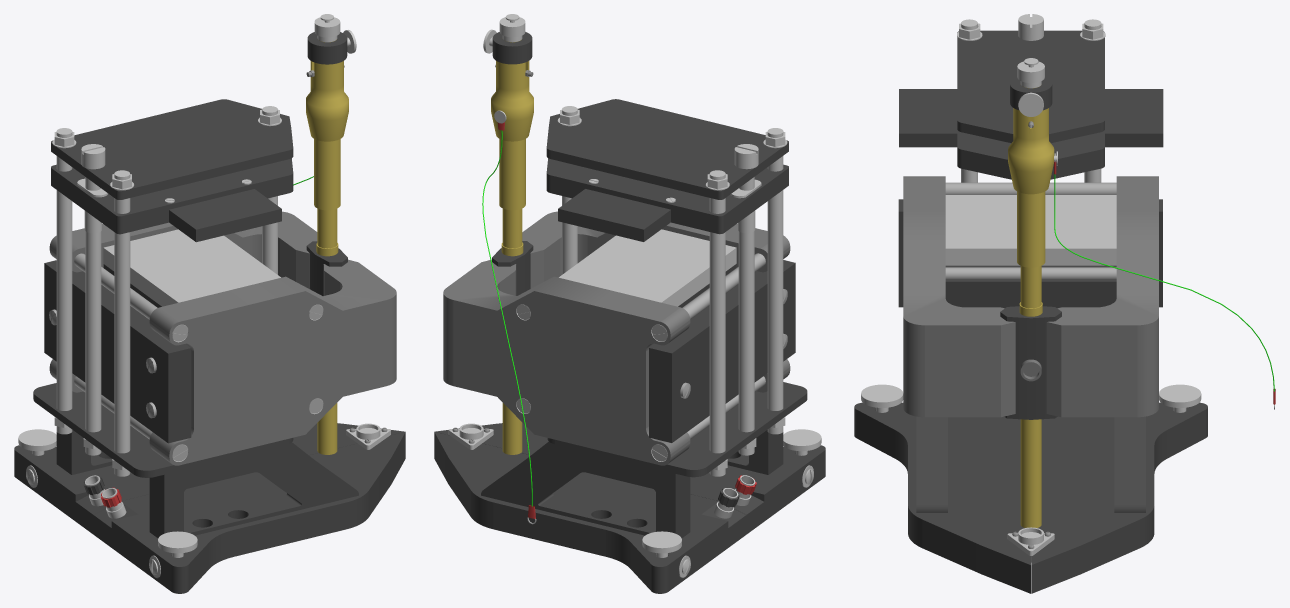
3 views of the same model, side by side, from view 1: azimuth 30°, elevation 25°; view 2: azimuth 150°, elevation 25°; view 3: azimuth 270°, elevation 25° (orthographic). The views are drawn at different scales.
Parts seen in each view (by area): view 1: 平面_3, 平面_2_2, 立方体_4, 平面_1, 立方体_2_2, 立方体_1, 立方体_3_2, 圆柱_13_2, 平面_2, 圆柱_3, 圆柱_2, 平面 (+10 smaller); view 2: 平面_3, 平面_2_2, 立方体_4, 平面_1, 立方体_2_2, 立方体_1, 立方体_3_2, 圆柱_13_2, 平面_2, 圆柱_2, 圆柱_3, 平面 (+11 smaller); view 3: 平面_3, 平面_2_2, 立方体_4, 立方体_1, 平面, 平面_1, 圆柱_13_2, 立方体_2, 圆柱_8, 立方体_3_2, 立方体_5, 圆柱_4_9 (+6 smaller).
Part boxes in pixels (<box>): 平面_3: <box>49,211,396,465</box>; 平面_2_2: <box>14,423,405,593</box>; 立方体_4: <box>51,99,293,199</box>; 平面_1: <box>56,430,358,555</box>; 立方体_2_2: <box>44,260,191,443</box>; 立方体_1: <box>103,229,280,306</box>; 立方体_3_2: <box>51,158,293,234</box>; 圆柱_13_2: <box>306,61,348,210</box>; 平面_2: <box>33,383,293,477</box>; 圆柱_3: <box>114,170,130,476</box>; 圆柱_2: <box>56,128,72,434</box>; 平面: <box>169,189,281,242</box>; 平面_3: <box>443,211,790,465</box>; 平面_2_2: <box>434,423,825,593</box>; 立方体_4: <box>546,99,788,199</box>; 平面_1: <box>481,430,783,555</box>; 立方体_2_2: <box>649,260,795,442</box>; 立方体_1: <box>559,229,736,306</box>; 立方体_3_2: <box>546,158,788,234</box>; 圆柱_13_2: <box>491,61,533,210</box>; 平面_2: <box>547,382,807,477</box>; 圆柱_2: <box>709,170,725,476</box>; 圆柱_3: <box>767,128,783,434</box>; 平面: <box>558,189,670,241</box>; 平面_3: <box>903,176,1158,417</box>; 平面_2_2: <box>854,402,1207,593</box>; 立方体_4: <box>957,30,1104,143</box>; 立方体_1: <box>945,195,1116,265</box>; 平面: <box>899,89,1163,147</box>; 平面_1: <box>916,416,1145,512</box>; 圆柱_13_2: <box>1008,108,1054,267</box>; 立方体_2: <box>945,265,1116,308</box>; 圆柱_8: <box>1017,61,1044,527</box>; 立方体_3_2: <box>957,130,1104,179</box>; 立方体_5: <box>1000,306,1061,419</box>; 圆柱_4_9: <box>945,267,1116,281</box>.
Bounding box in the file's own units: 37.63 × 52.28 × 39.88.
